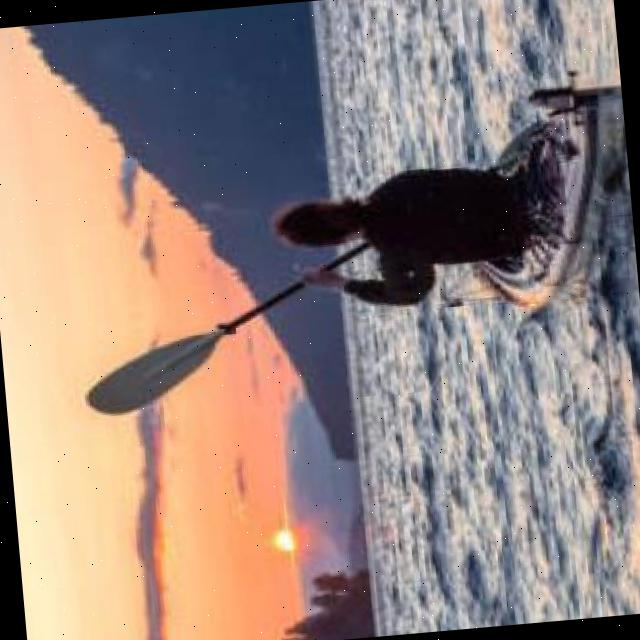kayak: (274, 82, 625, 311), (272, 87, 624, 309), (276, 87, 623, 311)
